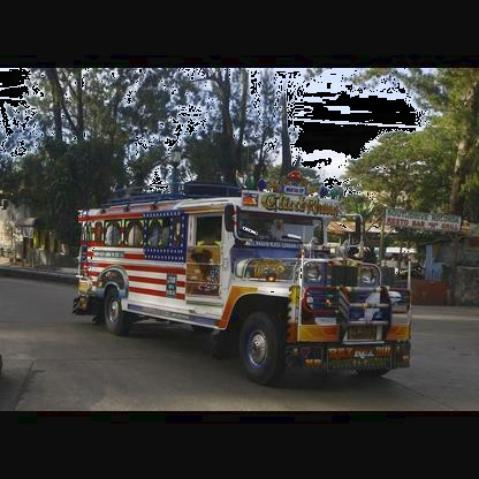jeepney: (66, 176, 435, 388)
